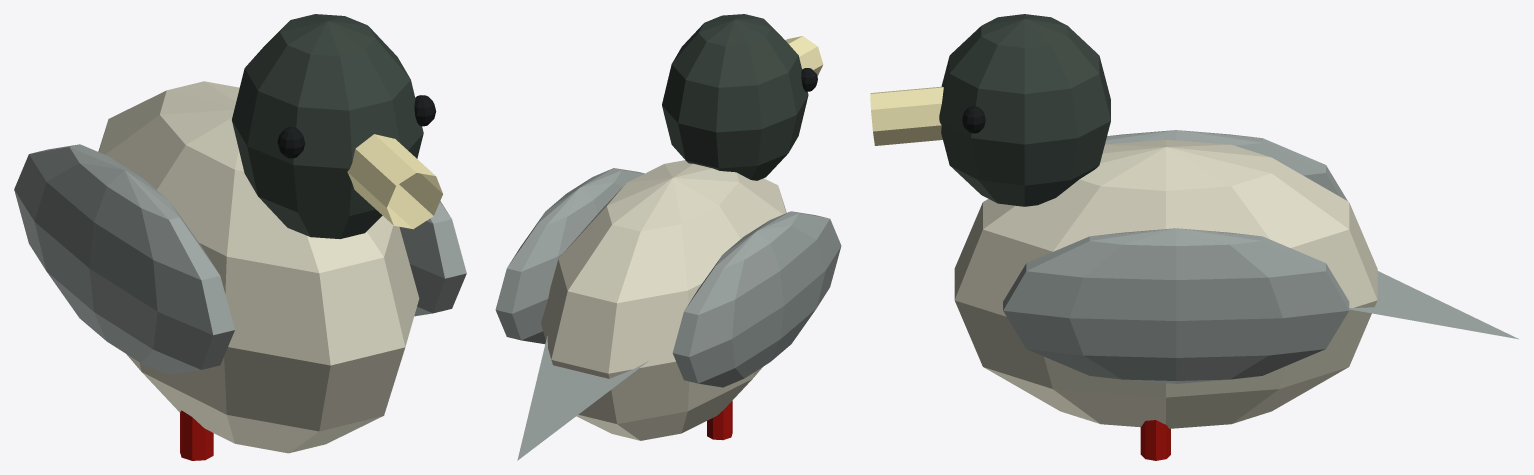
File: pigeon.glb
3 views of the same model, side by side, from view 1: azimuth 30°, elevation 25°; view 2: azimuth 150°, elevation 25°; view 3: azimuth 270°, elevation 25° (orthographic). The views are drawn at different scales.
Bounding box in the file's own units: 0.3 × 0.45 × 0.6428.
1 material, 1 textured.
